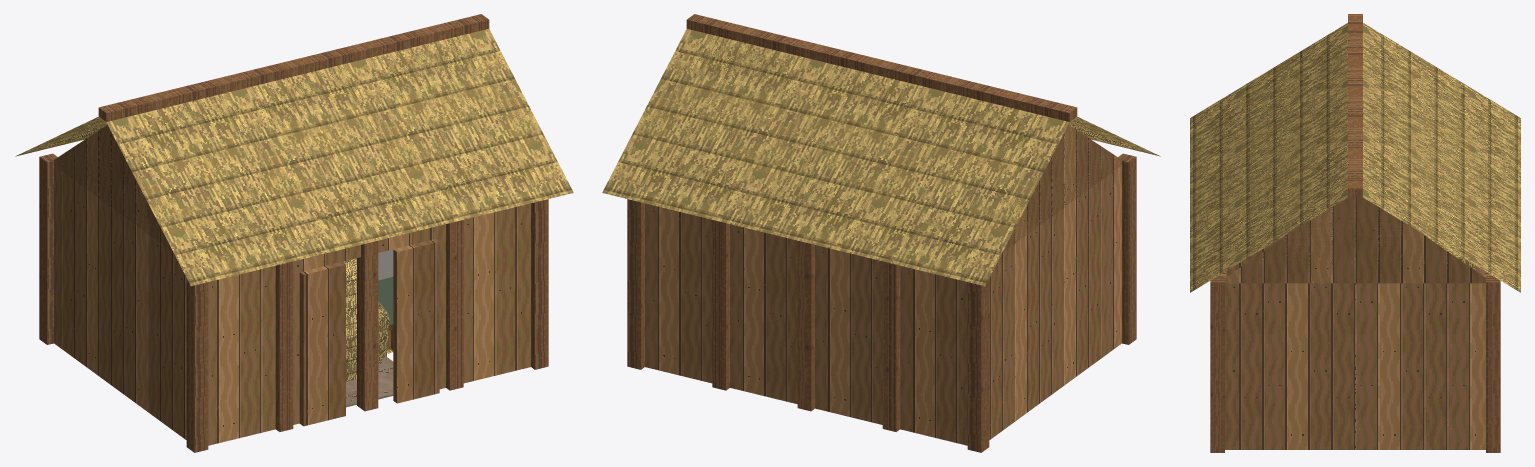
File: props.glb
3 views of the same model, side by side, from view 1: azimuth 30°, elevation 25°; view 2: azimuth 150°, elevation 25°; view 3: azimuth 270°, elevation 25° (orthographic). The views are drawn at different scales.
Parts seen in each view (by area): view 1: barn_Part, haystack_Part, broken-carriage_Part; view 2: barn_Part; view 3: barn_Part.
Part boxes in pixels (box(x1,y1,x2,y2)): barn_Part: box(15, 14, 573, 452); haystack_Part: box(342, 258, 393, 381); broken-carriage_Part: box(378, 249, 393, 330); barn_Part: box(602, 14, 1160, 452); barn_Part: box(1190, 14, 1520, 452).
Size of the model in its own units: 4.5 by 3.28 by 3.6.
Materials: 67 (20 with a texture image).
